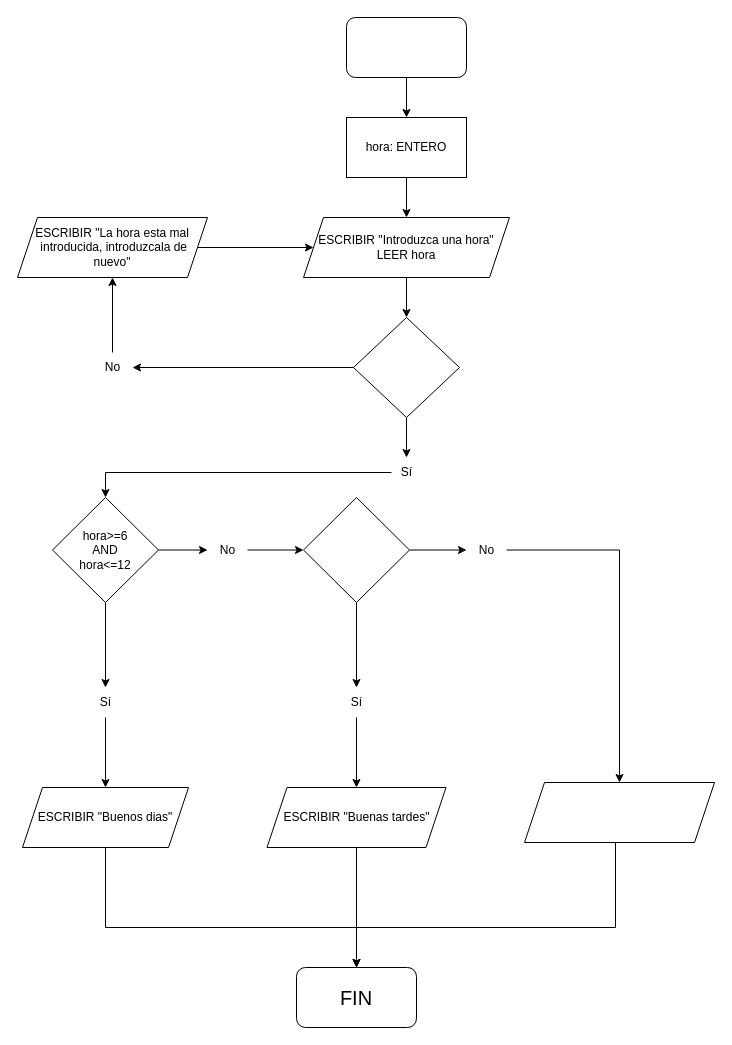
Some shapes in this 732 by 1045 pixel diagram are drawn without their labels. Here are the shapes that lost their labels. From the top down, the centre of each, then its label:
(406,47): INICIO
(406,367): hora>=0 AND hora<=23
(356,549): hora>=13 AND hora<=20
(619,812): ESCRIBIR "Buenas noches"
